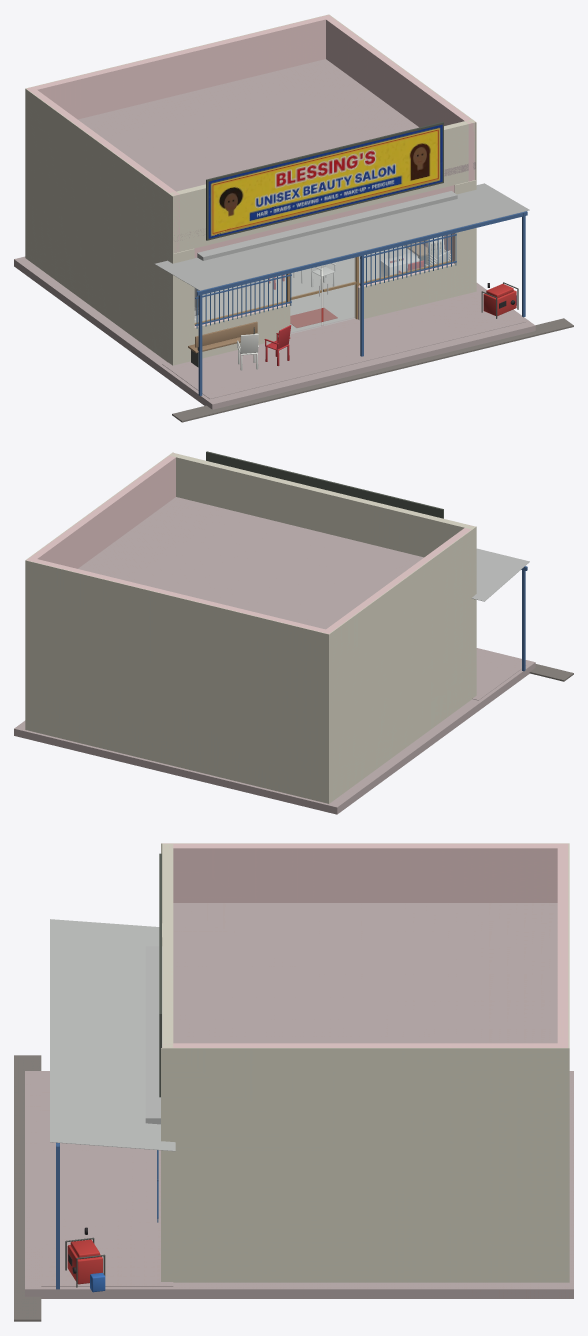
Rendered from set_blessing_salon.glb.
3 views of the same model, one above another, from view 1: azimuth 30°, elevation 25°; view 2: azimuth 150°, elevation 25°; view 3: azimuth 270°, elevation 25° (orthographic). The views are drawn at different scales.
Visible parts, largest first — view 1: GR_set_blessing_salon, GD_set_blessing_salon; view 2: GR_set_blessing_salon; view 3: GR_set_blessing_salon, GD_set_blessing_salon.
Boxes of the visible parts, <box> form: GR_set_blessing_salon: <box>14,14,573,422</box>; GD_set_blessing_salon: <box>188,233,518,370</box>; GR_set_blessing_salon: <box>14,451,573,814</box>; GR_set_blessing_salon: <box>14,843,573,1321</box>; GD_set_blessing_salon: <box>65,1150,158,1292</box>.
Size of the model in its own units: 11.4 by 5.15 by 10.2.
17 materials, 10 textured.
